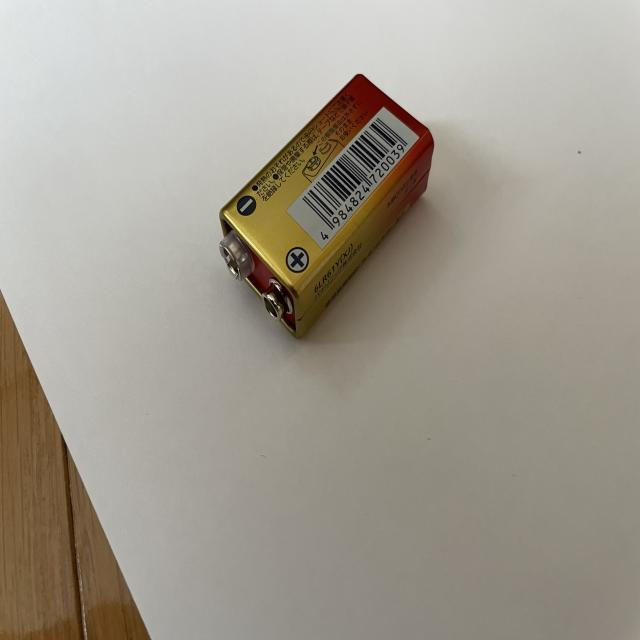9V: (217, 73, 435, 337)
